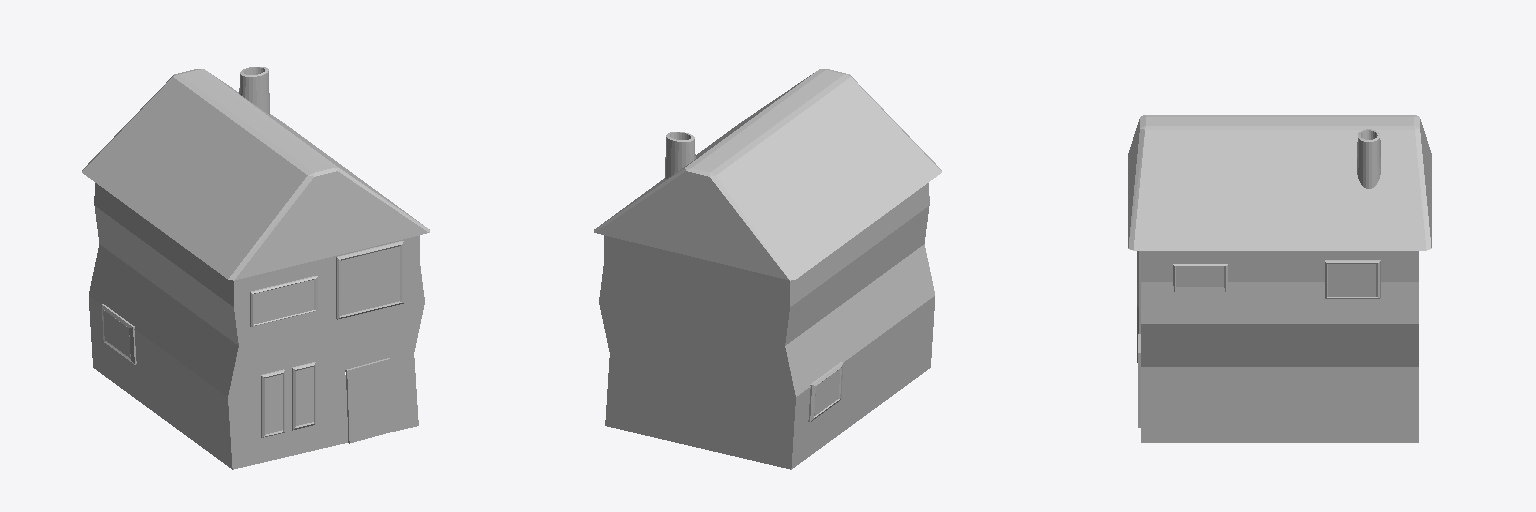
The model's file is house_model4.obj.
3 renders of one model, left to right at view 1: azimuth 30°, elevation 25°; view 2: azimuth 150°, elevation 25°; view 3: azimuth 270°, elevation 25°, orthographic.
Visible parts, largest first — view 1: house002; view 2: house002; view 3: house002.
Part boxes in pixels (x1,y1,x2,y2): house002: (82, 67, 429, 469); house002: (594, 69, 941, 469); house002: (1128, 115, 1431, 442).
Bounding box in the file's own units: 75.4 × 101 × 97.8.